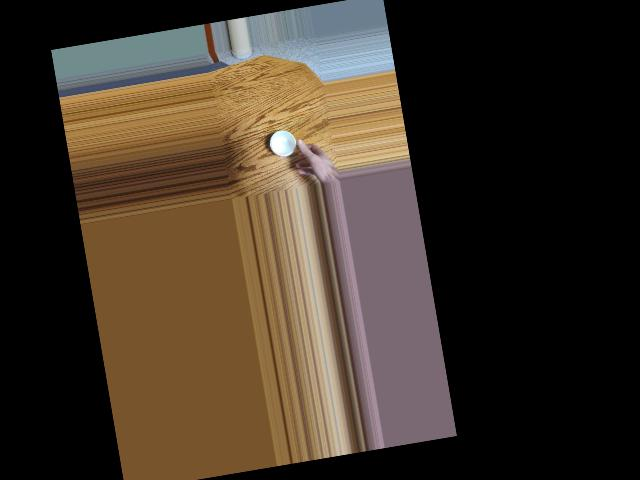cotage: (264, 121, 306, 163)
